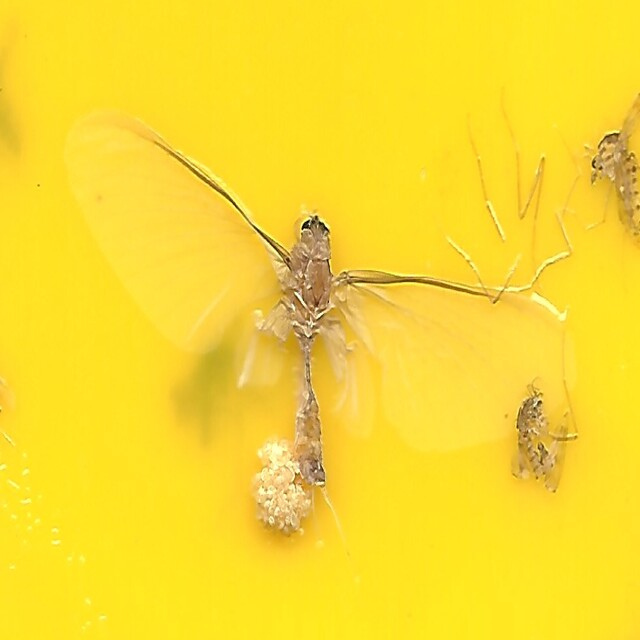Ephemeroptera: (66, 110, 574, 530)
